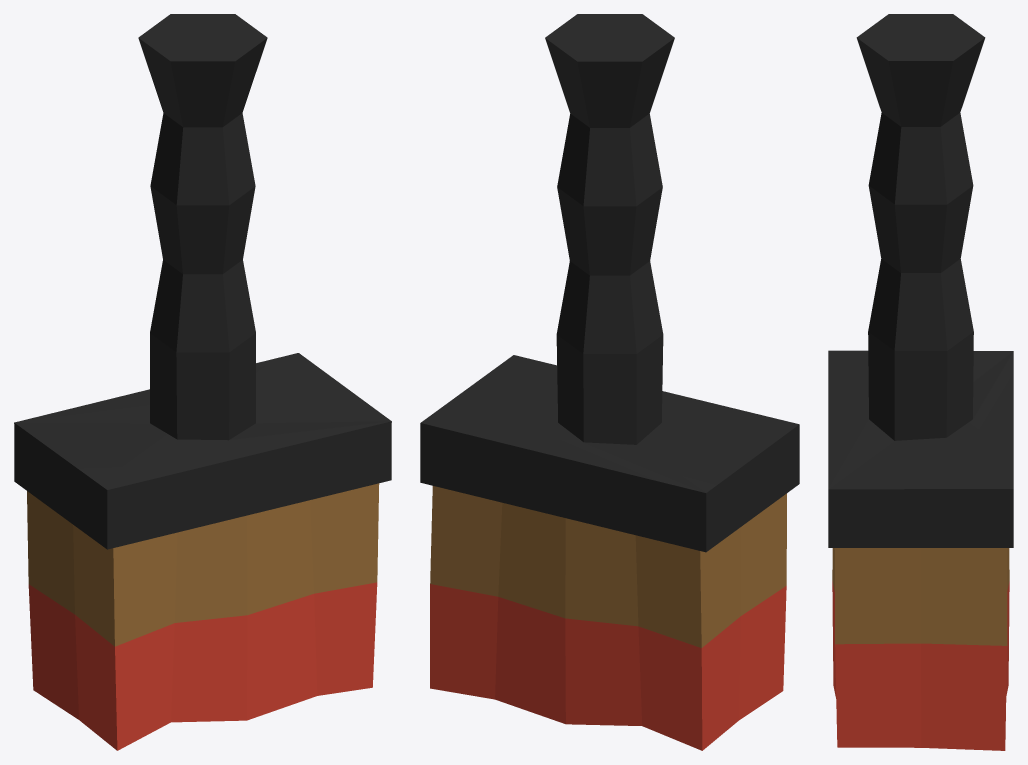
File: tools_brush-square-paint.fbx
The picture shows the model from 3 angles, left to right: view 1: azimuth 30°, elevation 25°; view 2: azimuth 150°, elevation 25°; view 3: azimuth 270°, elevation 25°; orthographic projection.
Visible parts, largest first — view 1: tools_brush_square_paint; view 2: tools_brush_square_paint; view 3: tools_brush_square_paint.
Part boxes in pixels (<box>): tools_brush_square_paint: <box>14,14,391,750</box>; tools_brush_square_paint: <box>420,14,799,750</box>; tools_brush_square_paint: <box>828,14,1013,750</box>.
Size of the model in its own units: 91.41 by 200 by 51.79.
